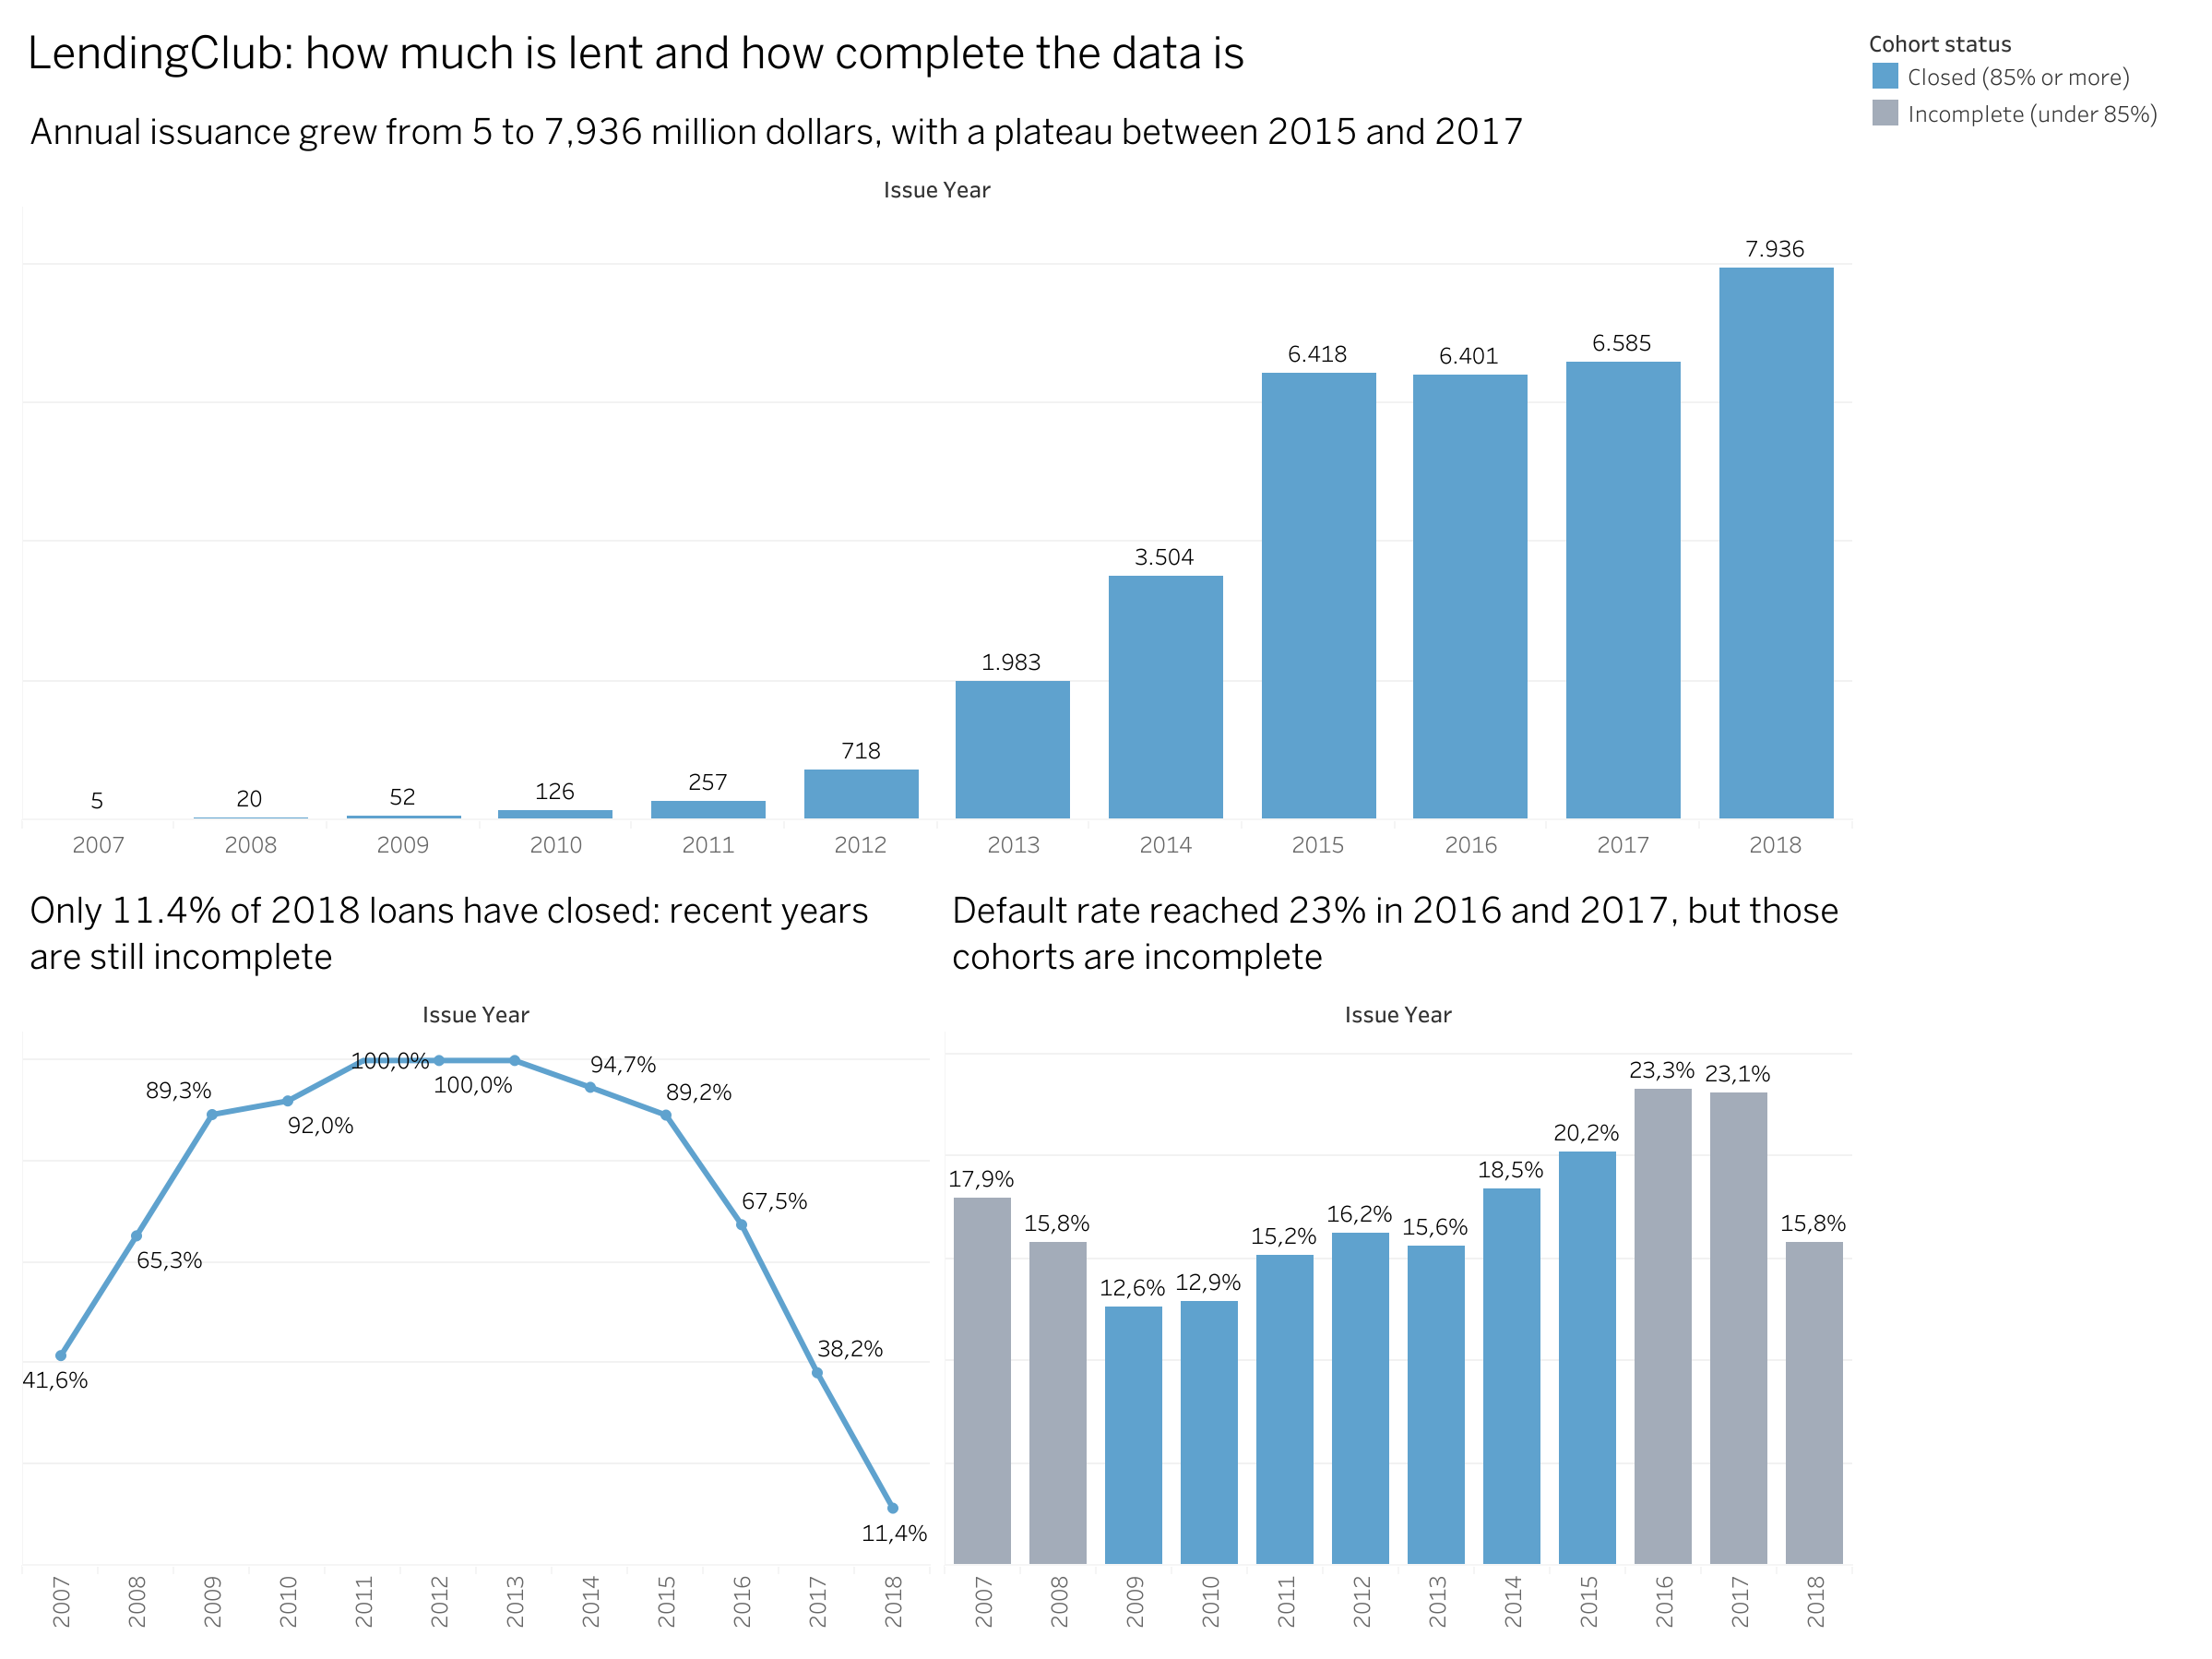

Layout of this report page (visuals, bound fields, positions):
{"tool":"tableau","page":{"name":"1 · How much is lent","canvas":[1200,900],"ordinal":1},"visuals":[{"type":"title","box":[8,8,1000,39]},{"type":"legend","title":"Default rate by year","param":"[federated.1rcbmc01f614pq18if9220ltu97b].[none:Calculation_1744976128532480:nk]","box":[1008,8,184,66]},{"type":"worksheet","title":"Issuance by year","mark":"Automatic","rows":["funded_issued_millions"],"cols":["issue_year"],"box":[8,47,1000,422.5]},{"type":"worksheet","title":"Closed by year","mark":"Line","rows":["pct_closed"],"cols":["issue_year"],"box":[8,469.5,500,422.5]},{"type":"worksheet","title":"Default rate by year","mark":"Bar","rows":["default_rate_closed_pct"],"cols":["issue_year"],"box":[508,469.5,500,422.5]}]}

Visuals, with their boxes in screenshot pixels (x1, y1, x2, y2), scaled from the page's 1200x900 canvas onto the 2212x1659 screenshot:
title: box=[15, 15, 1858, 87]
"Default rate by year" legend: box=[1858, 15, 2197, 137]
"Issuance by year" worksheet: box=[15, 87, 1858, 865]
"Closed by year" worksheet (Line marks): box=[15, 865, 936, 1644]
"Default rate by year" worksheet (Bar marks): box=[936, 865, 1858, 1644]
